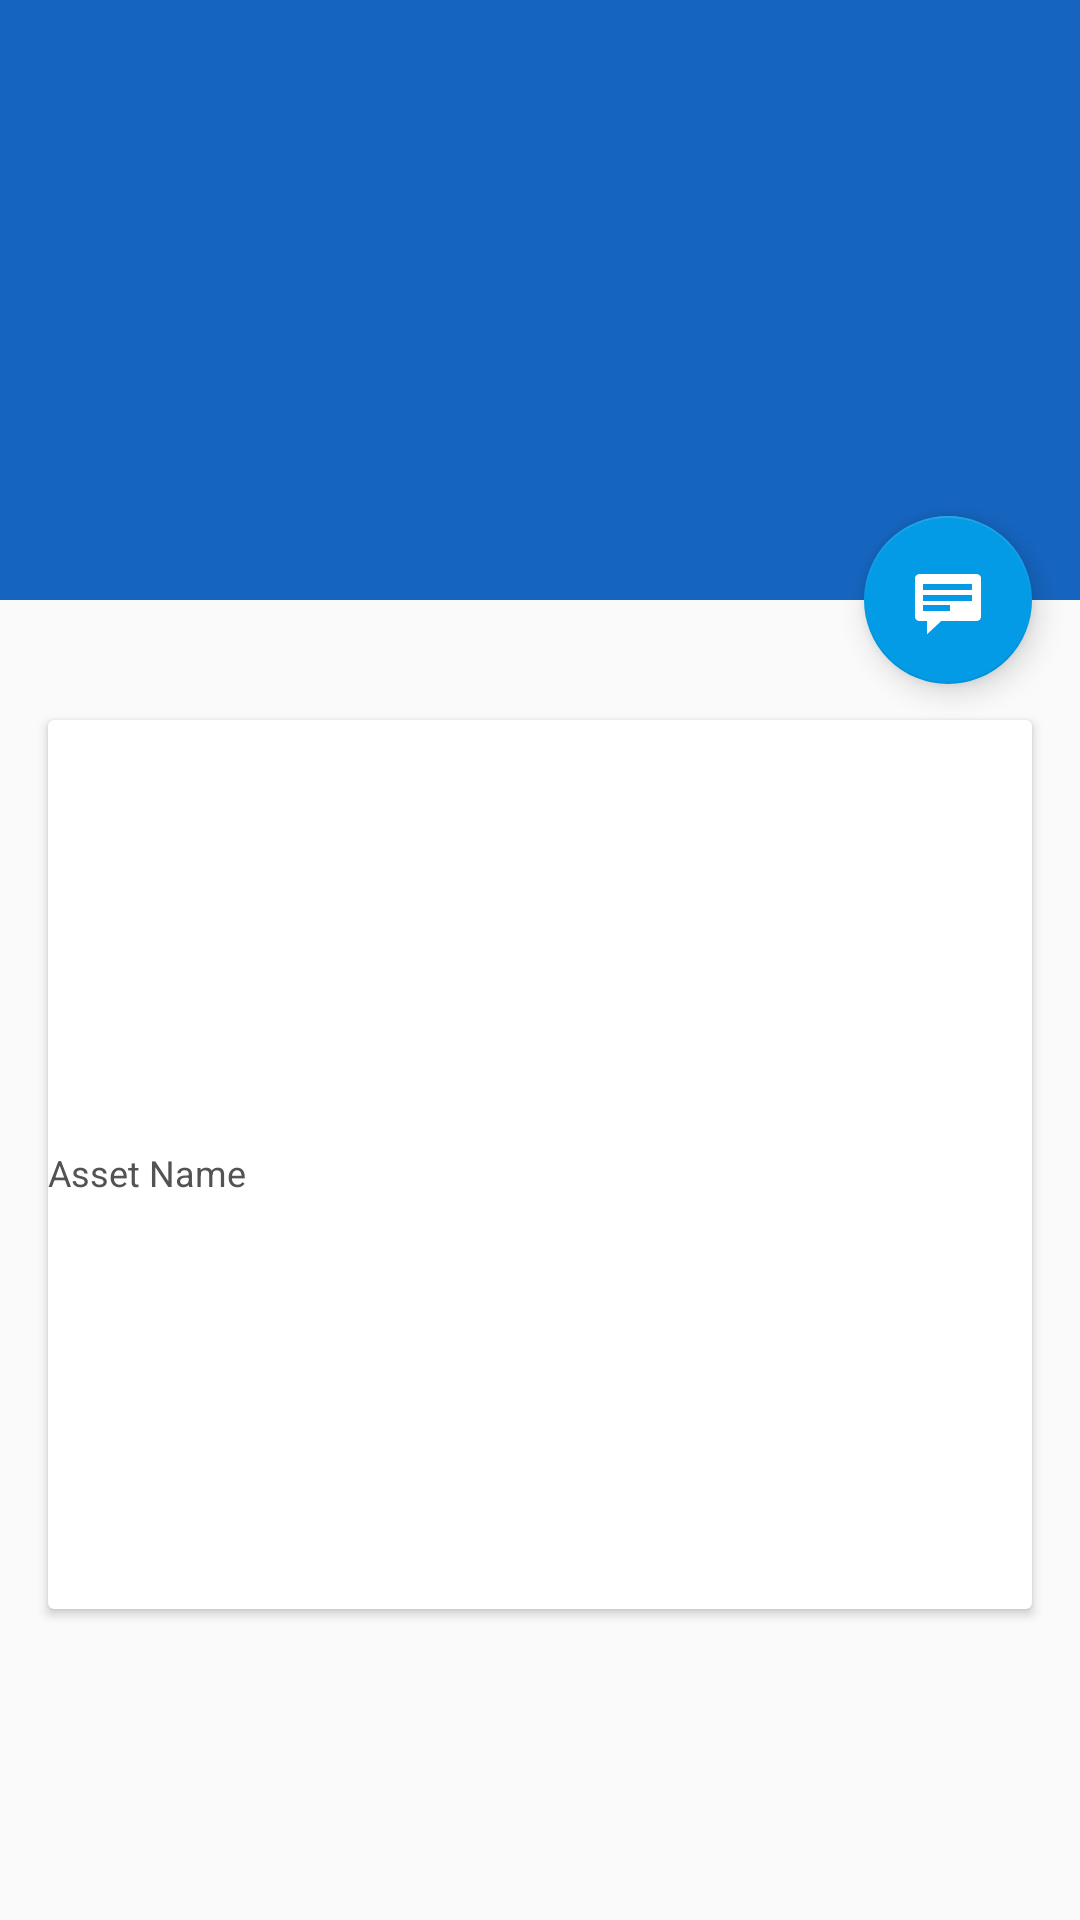

Where to tap for icons on this 1080 × 1920 app screen, as [x,y]:
chat: [948,600]
